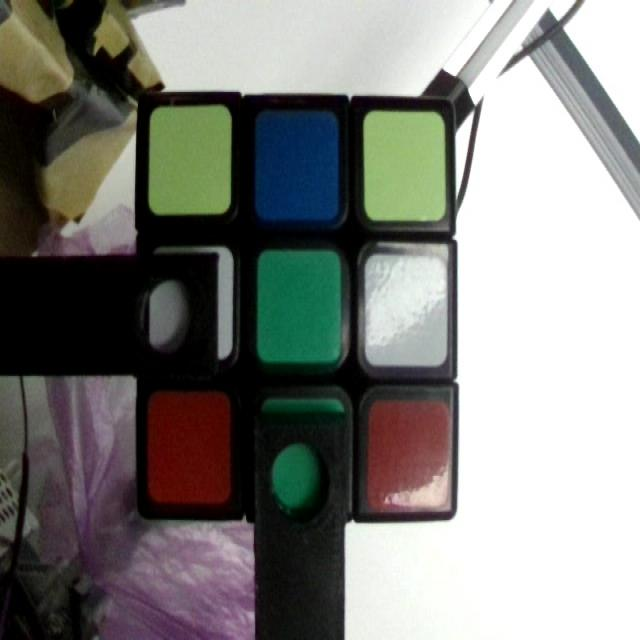b: (259, 106, 338, 218)
g: (256, 252, 339, 357), (267, 398, 343, 502)
r: (149, 391, 227, 501), (369, 406, 447, 506)
w: (149, 247, 236, 356), (367, 260, 447, 367)
y: (366, 111, 446, 216), (152, 114, 233, 214)
